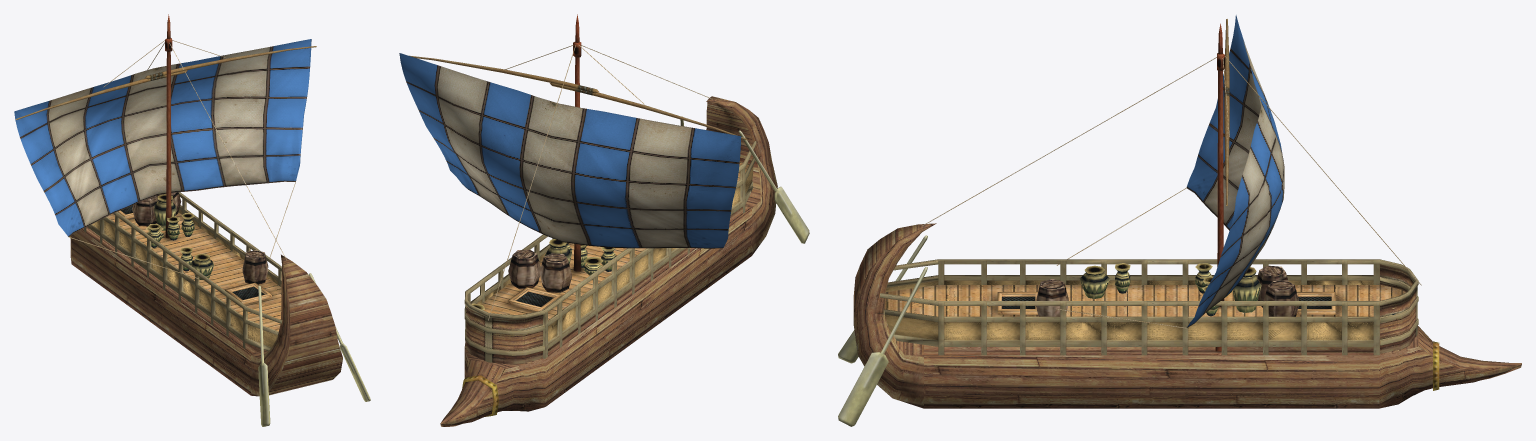
File: cart_merchant_ship.glb
3 renders of one model, left to right at view 1: azimuth 30°, elevation 25°; view 2: azimuth 150°, elevation 25°; view 3: azimuth 270°, elevation 25°, orthographic. The views are drawn at different scales.
Parts seen in each view (by area): view 1: cart_merchant_ship_part1, cart_merchant_ship_part0, cart_merchant_ship_part2; view 2: cart_merchant_ship_part1, cart_merchant_ship_part0, cart_merchant_ship_part2; view 3: cart_merchant_ship_part0, cart_merchant_ship_part1, cart_merchant_ship_part2.
Part boxes in pixels (x1=…): cart_merchant_ship_part1: x1=14, y1=39, x2=311, y2=278; cart_merchant_ship_part0: x1=15, y1=14, x2=370, y2=426; cart_merchant_ship_part2: x1=132, y1=192, x2=268, y2=284; cart_merchant_ship_part1: x1=399, y1=45, x2=741, y2=320; cart_merchant_ship_part0: x1=409, y1=14, x2=809, y2=426; cart_merchant_ship_part2: x1=465, y1=239, x2=616, y2=312; cart_merchant_ship_part0: x1=838, y1=19, x2=1521, y2=426; cart_merchant_ship_part1: x1=922, y1=15, x2=1421, y2=328; cart_merchant_ship_part2: x1=1036, y1=263, x2=1396, y2=316.
Bounding box in the file's own units: 3.53 × 3.3 × 5.5.
Materials: 3 (3 with a texture image).
